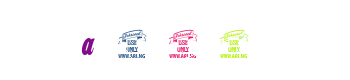2: (193, 0, 273, 80)
3: (125, 0, 205, 80), (135, 0, 215, 80)
A: (72, 0, 152, 80)
